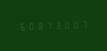eight: (35, 20, 43, 31)
seven: (44, 20, 52, 31), (80, 19, 88, 29)
six: (17, 21, 25, 31)
three: (53, 20, 61, 30)
zero: (26, 20, 34, 31), (62, 19, 70, 30), (71, 19, 79, 30)
